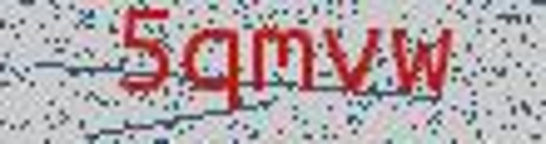5: (111, 2, 178, 102)
m: (247, 19, 321, 100)
q: (181, 17, 247, 118)
v: (320, 17, 383, 105)
w: (389, 20, 463, 105)
